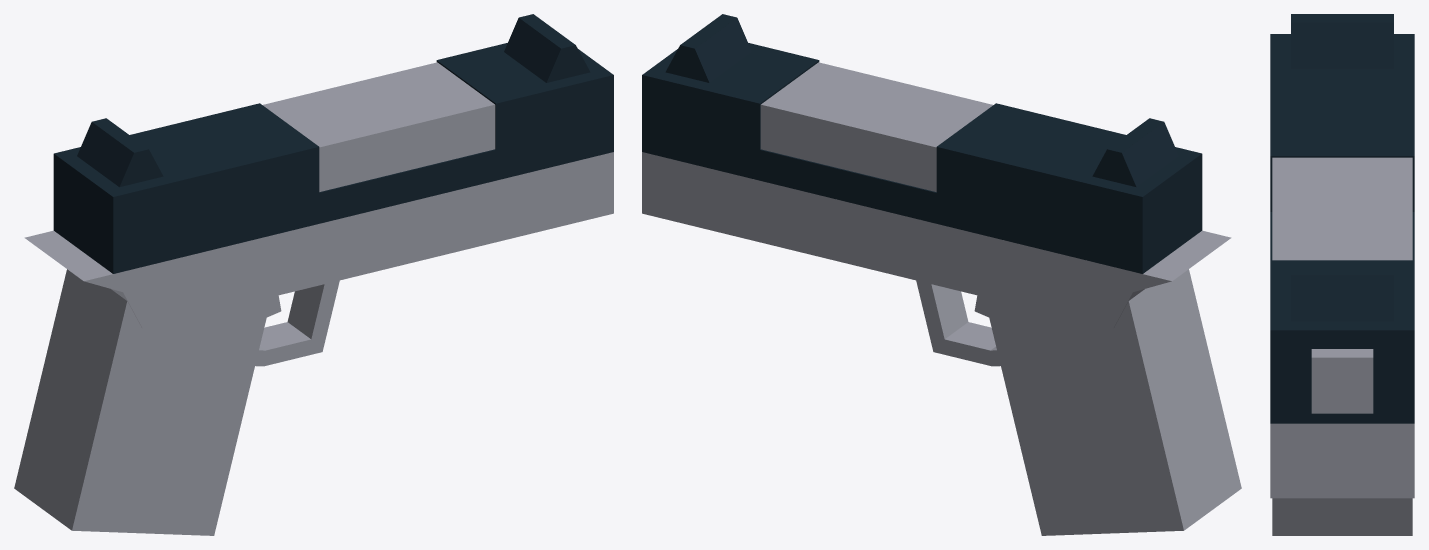
Rendered from For His Neutral Special.fbx.
3 renders of one model, left to right at view 1: azimuth 30°, elevation 25°; view 2: azimuth 150°, elevation 25°; view 3: azimuth 270°, elevation 25°, orthographic. The views are drawn at different scales.
Parts seen in each view (by area): view 1: GunBase for real this time, GunSlide for real this time; view 2: GunBase for real this time, GunSlide for real this time; view 3: GunSlide for real this time, GunBase for real this time.
Boxes of the visible parts, bbox=[...] form: GunBase for real this time: bbox=[14, 62, 613, 535]; GunSlide for real this time: bbox=[53, 14, 613, 273]; GunBase for real this time: bbox=[642, 62, 1241, 535]; GunSlide for real this time: bbox=[642, 14, 1202, 273]; GunSlide for real this time: bbox=[1270, 14, 1414, 423]; GunBase for real this time: bbox=[1270, 157, 1414, 535].
Bounding box in the file's own units: 189 × 128 × 35.
